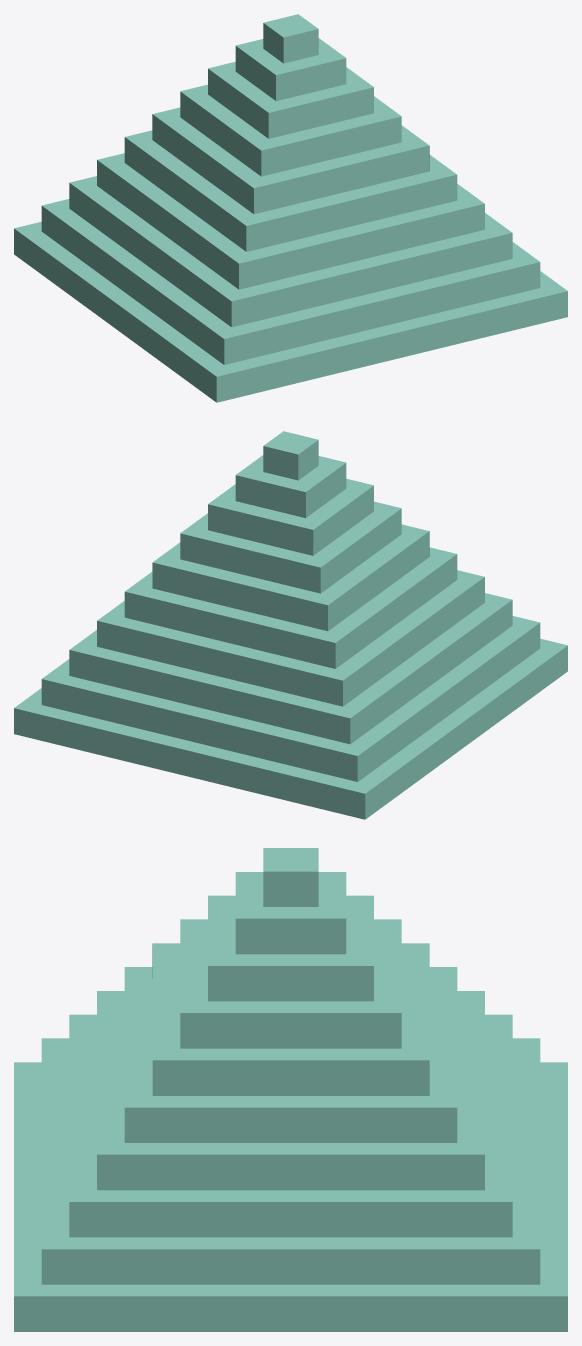
3 renders of one model, top to bottom at view 1: azimuth 30°, elevation 25°; view 2: azimuth 150°, elevation 25°; view 3: azimuth 270°, elevation 25°, orthographic. The views are drawn at different scales.
Parts seen in each view (by area): view 1: Pyramid; view 2: Pyramid; view 3: Pyramid.
Part boxes in pixels (x1,y1,x2,y2): Pyramid: (14,14,567,402); Pyramid: (14,431,567,819); Pyramid: (14,848,567,1331).
Bounding box in the file's own units: 1.41 × 1 × 1.41.
